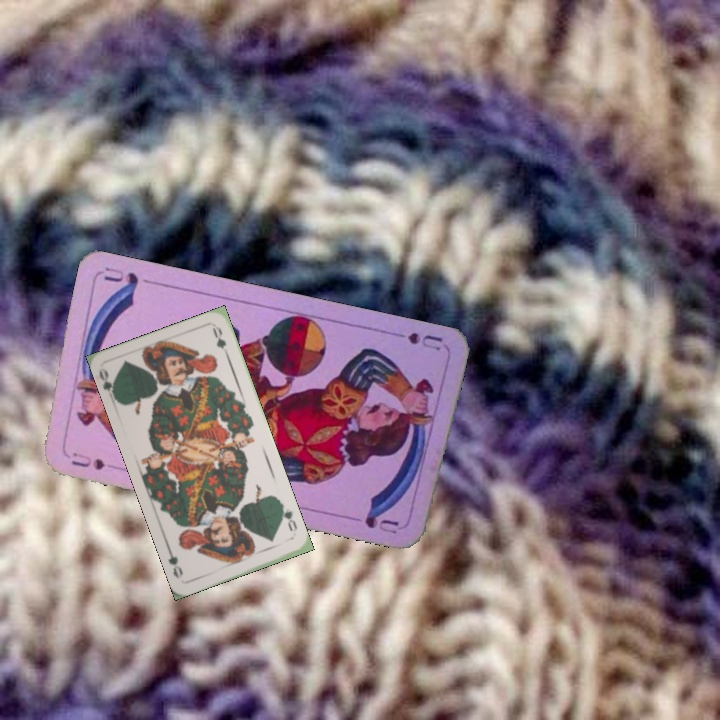GO: (95, 365, 120, 403), (277, 500, 300, 534)
SU: (385, 327, 445, 353), (62, 447, 108, 473)
